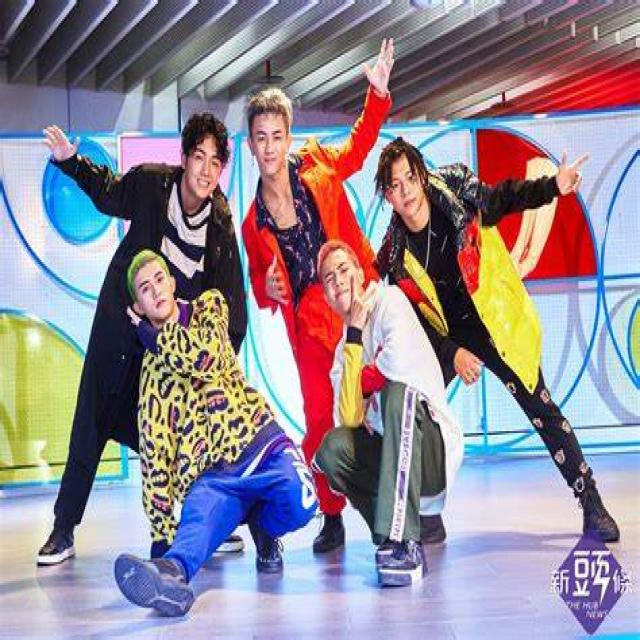sit: (119, 245, 308, 619), (306, 231, 472, 606)
stand: (36, 112, 255, 554), (381, 121, 611, 539), (256, 31, 403, 536)
